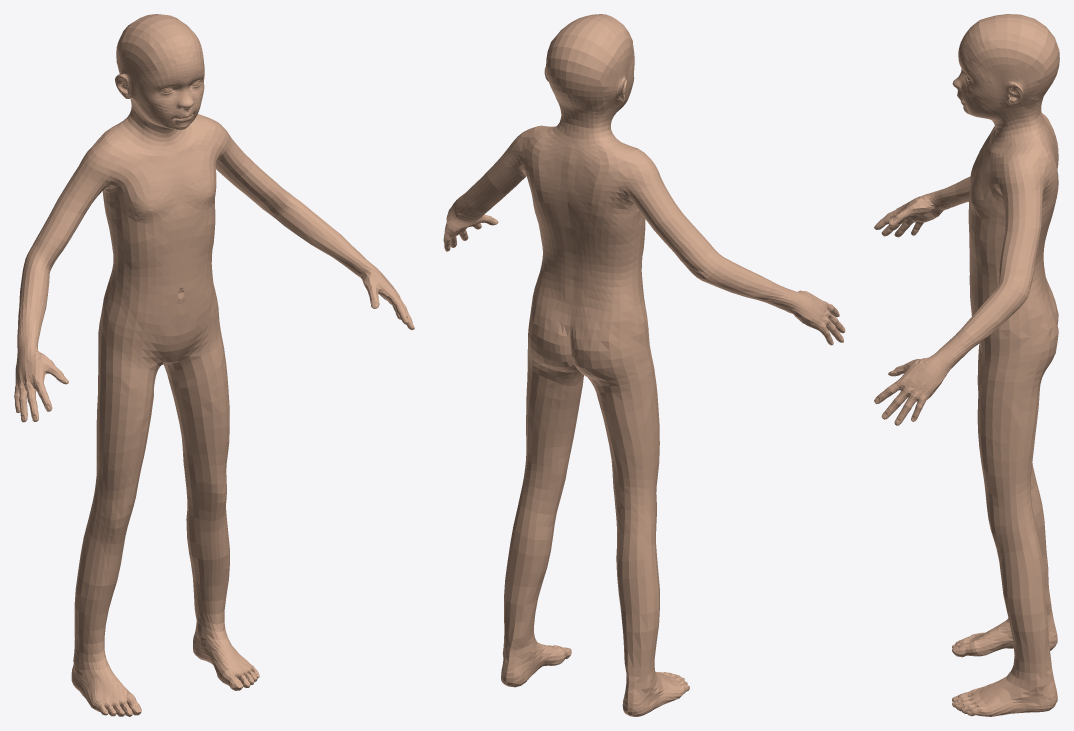
File: peds_patient_child.anny_base.obj
3 views of the same model, side by side, from view 1: azimuth 30°, elevation 25°; view 2: azimuth 150°, elevation 25°; view 3: azimuth 270°, elevation 25° (orthographic).
Size of the model in its own units: 0.7691 by 1.25 by 0.3175.
